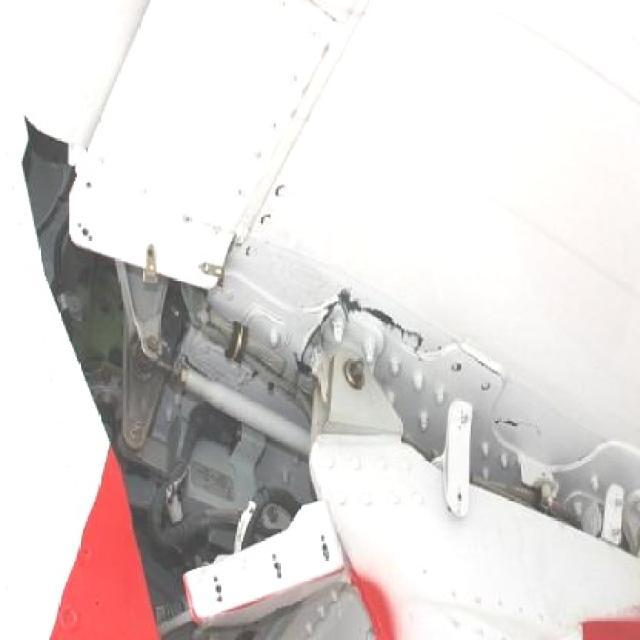crack: (344, 295, 418, 337)
